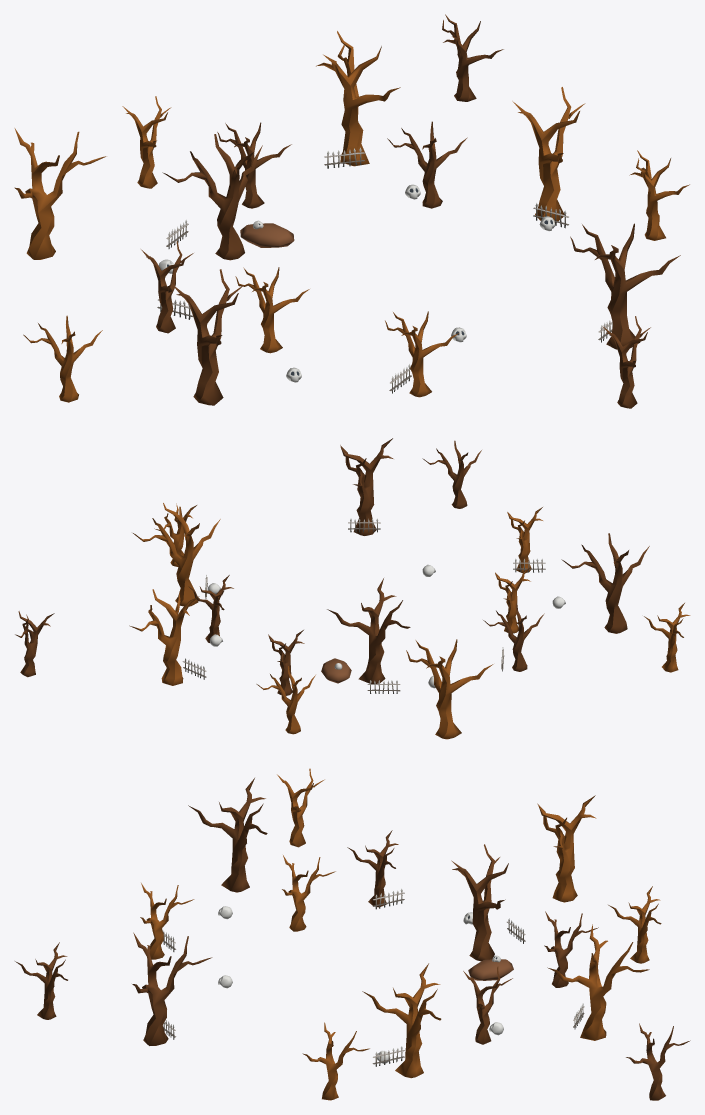
The model's file is invi.fbx.
3 renders of one model, top to bottom at view 1: azimuth 30°, elevation 25°; view 2: azimuth 150°, elevation 25°; view 3: azimuth 270°, elevation 25°, orthographic. The views are drawn at different scales.
Visible parts, largest first — view 1: invi7, invi6, invi16, invi3, invi22, invi5, invi14, invi21, invi10, invi23, invi13, invi9 (+5 smaller); view 2: invi7, invi6, invi22, invi5, invi3, invi16, invi24, invi8, invi15, invi9, invi23, invi14 (+5 smaller); view 3: invi3, invi16, invi22, invi5, invi6, invi7, invi9, invi21, invi13, invi15, invi14, invi8 (+5 smaller).
Part boxes in pixels (x1,y1,x2,y2): invi7: (14, 128, 106, 259); invi6: (162, 134, 262, 260); invi16: (570, 223, 680, 349); invi3: (316, 31, 400, 166); invi22: (171, 269, 243, 405); invi5: (512, 87, 585, 222); invi14: (385, 311, 458, 397); invi21: (235, 267, 309, 353); invi10: (387, 121, 467, 208); invi23: (23, 315, 102, 402); invi13: (629, 150, 689, 240); invi9: (442, 14, 503, 101); invi7: (406, 639, 493, 739); invi6: (327, 578, 410, 683); invi22: (561, 533, 649, 633); invi5: (133, 506, 220, 606); invi3: (129, 589, 199, 685); invi16: (340, 438, 393, 535); invi24: (483, 603, 544, 671); invi8: (256, 666, 315, 734); invi15: (422, 440, 481, 508); invi9: (15, 611, 54, 677); invi23: (644, 603, 690, 672); invi14: (507, 507, 542, 572); invi3: (547, 924, 649, 1040); invi16: (132, 932, 212, 1045); invi22: (188, 778, 267, 892); invi5: (362, 963, 441, 1078); invi6: (451, 844, 508, 961); invi7: (537, 795, 596, 902); invi9: (626, 1023, 690, 1100); invi21: (282, 855, 335, 931); invi13: (302, 1022, 369, 1100); invi15: (15, 942, 67, 1019); invi14: (140, 883, 194, 959); invi8: (608, 886, 661, 963).
Size of what is drawn, in the model's own units: 71.36 by 12.59 by 74.17.
Materials: 1 (1 with a texture image).
